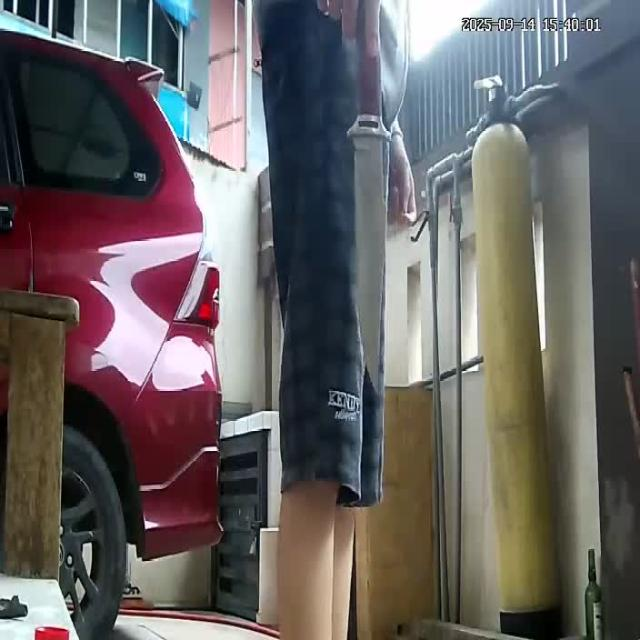senjata_tajam: (344, 36, 390, 396)
